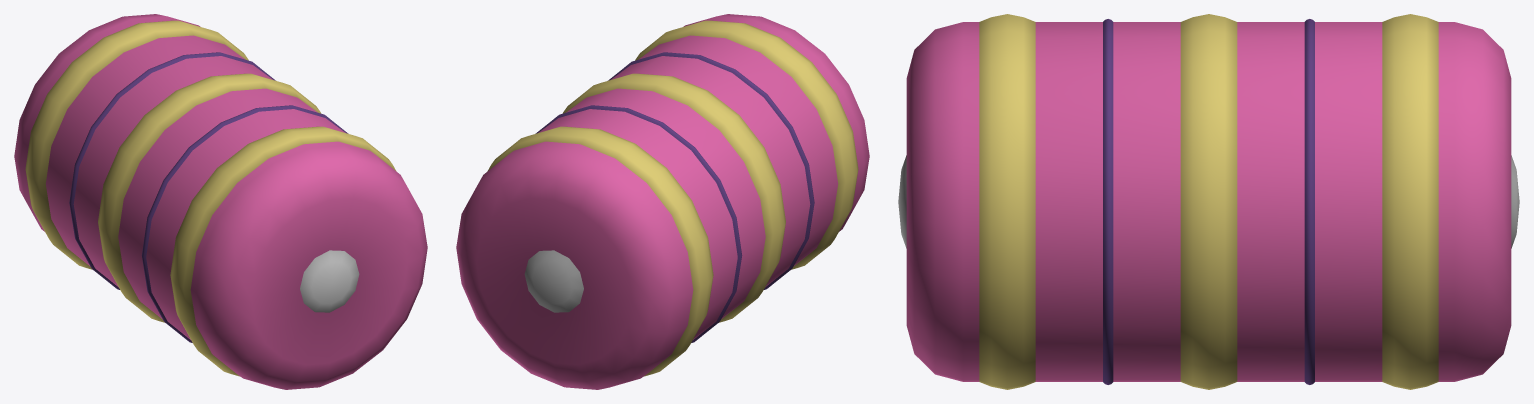
The model's file is mallet_head.glb.
The picture shows the model from 3 angles, left to right: view 1: azimuth 30°, elevation 25°; view 2: azimuth 150°, elevation 25°; view 3: azimuth 270°, elevation 25°; orthographic projection. The views are drawn at different scales.
Parts seen in each view (by area): view 1: mallet_head; view 2: mallet_head; view 3: mallet_head.
Boxes of the visible parts, x1,y1,x2,y2 form: mallet_head: (14, 14, 427, 389); mallet_head: (456, 14, 869, 389); mallet_head: (898, 14, 1519, 389).
Size of the model in its own units: 0.94 by 0.94 by 1.54.
